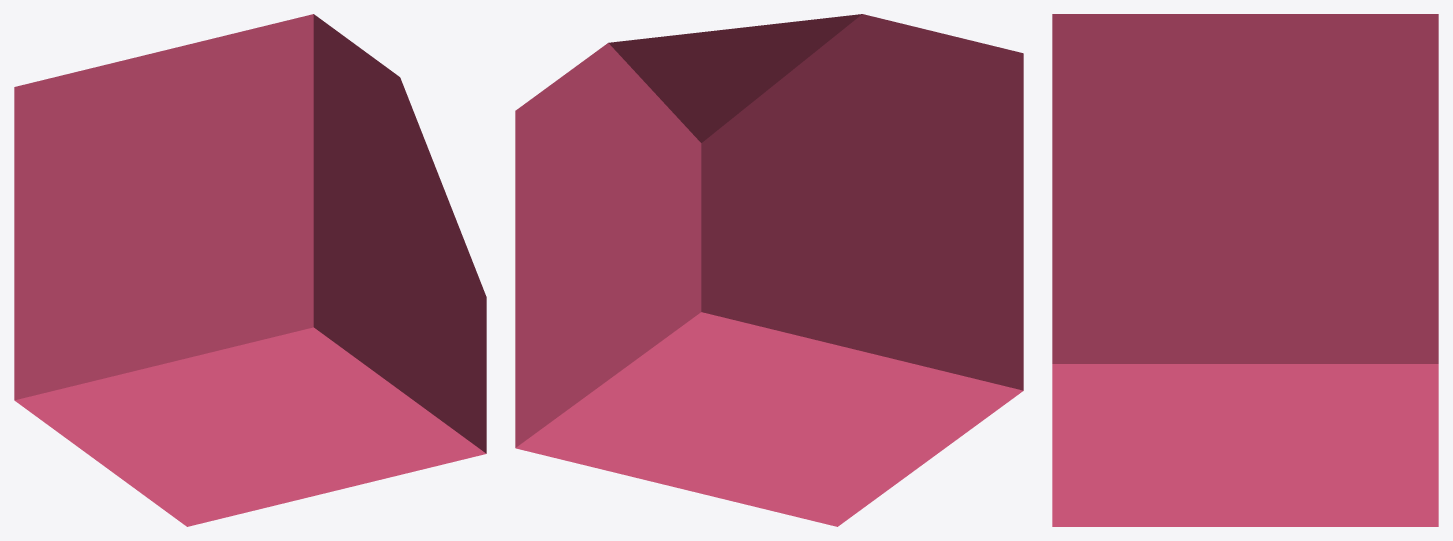
The model's file is r6c6_border_pink.gltf.
3 views of the same model, side by side, from view 1: azimuth 30°, elevation 25°; view 2: azimuth 150°, elevation 25°; view 3: azimuth 270°, elevation 25° (orthographic). The views are drawn at different scales.
Parts seen in each view (by area): view 1: r6c6_border_pink; view 2: r6c6_border_pink; view 3: r6c6_border_pink.
Part boxes in pixels (box(x1,y1,x2,y2)): r6c6_border_pink: box(14, 14, 486, 526); r6c6_border_pink: box(515, 14, 1023, 526); r6c6_border_pink: box(1052, 14, 1438, 526).
Size of the model in its own units: 2.1 by 2.1 by 2.1.
1 material, 1 textured.
